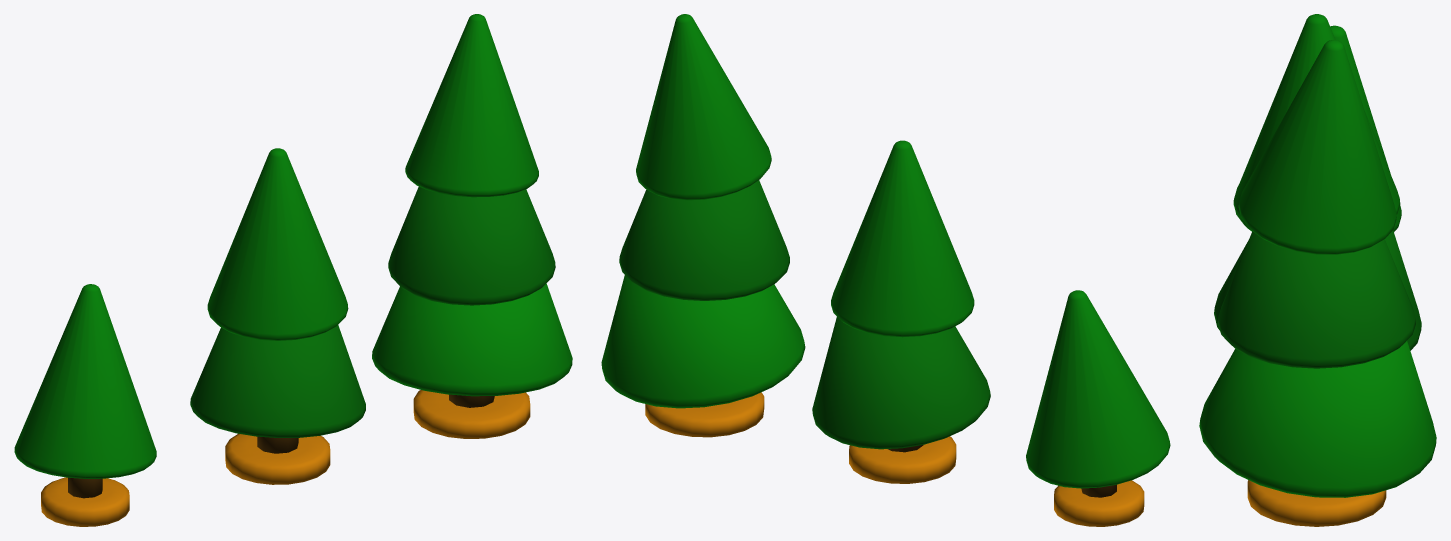
File: Tree_Simple.fbx
3 views of the same model, side by side, from view 1: azimuth 30°, elevation 25°; view 2: azimuth 150°, elevation 25°; view 3: azimuth 270°, elevation 25° (orthographic). The views are drawn at different scales.
Visible parts, largest first — view 1: Tree_Large, Tree_Medium, Tree_Small; view 2: Tree_Large, Tree_Medium, Tree_Small; view 3: Tree_Large, Tree_Medium, Tree_Small.
Boxes of the visible parts, x1,y1,x2,y2 form: Tree_Large: (372,14,572,438); Tree_Medium: (190,148,365,484); Tree_Small: (14,284,156,526); Tree_Large: (601,14,805,437); Tree_Medium: (812,140,990,483); Tree_Small: (1026,290,1170,526); Tree_Large: (1199,40,1436,526); Tree_Medium: (1214,14,1421,350); Tree_Small: (1235,25,1401,231).
Size of the model in its own units: 143 by 100 by 46.42.
